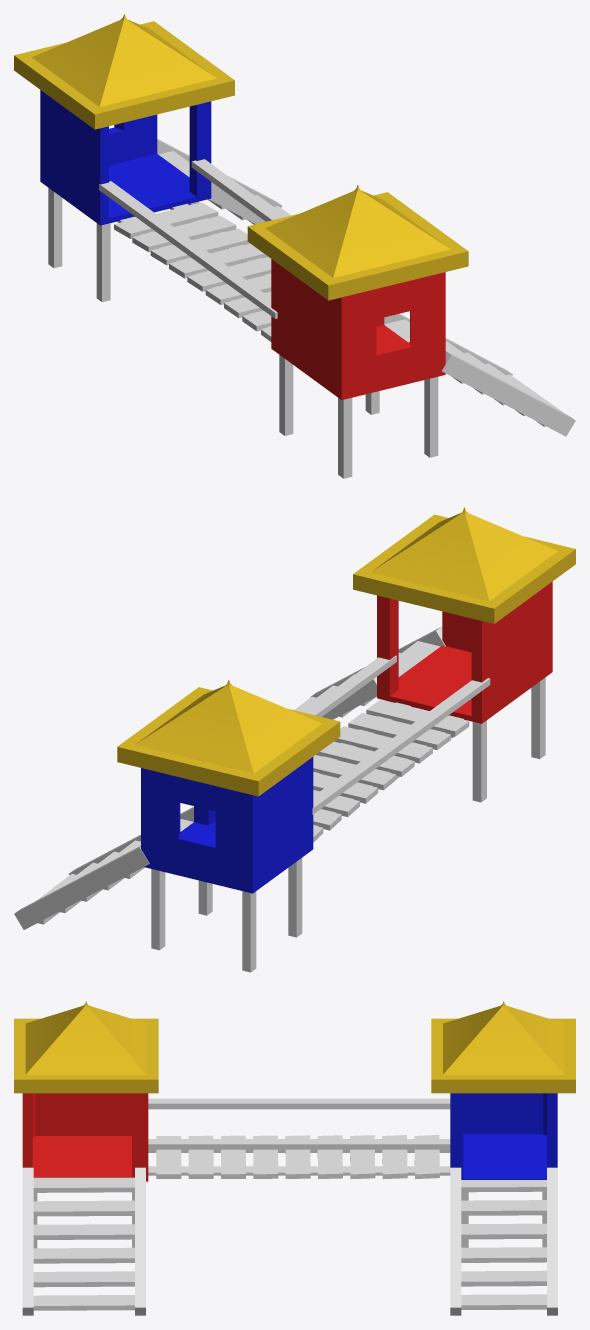
Rendered from harongHarong.fbx.
3 views of the same model, one above another, from view 1: azimuth 30°, elevation 25°; view 2: azimuth 150°, elevation 25°; view 3: azimuth 270°, elevation 25° (orthographic). The views are drawn at different scales.
Visible parts, largest first — view 1: Atop.001, bahay, bahay.001, flat na tulay, Leg, tulay.001, Hagdan, Left hagdan, Right hagdan; view 2: Atop.001, bahay.001, bahay, flat na tulay, Leg, tulay.001, Hagdan, Right hagdan, Left hagdan; view 3: Atop.001, bahay, Left hagdan, bahay.001, tulay.001, Right hagdan, flat na tulay, Hagdan, Leg.
Boxes of the visible parts, x1,y1,x2,y2 form: Atop.001: [14, 14, 468, 300]; bahay: [271, 259, 445, 399]; bahay.001: [40, 90, 211, 225]; flat na tulay: [114, 202, 271, 341]; Leg: [48, 188, 438, 478]; tulay.001: [99, 159, 283, 327]; Hagdan: [157, 139, 575, 436]; Left hagdan: [384, 319, 564, 426]; Right hagdan: [158, 151, 291, 224]; Atop.001: [117, 507, 575, 796]; bahay.001: [141, 757, 313, 893]; bahay: [377, 581, 552, 723]; flat na tulay: [313, 699, 469, 842]; Leg: [151, 677, 545, 972]; tulay.001: [303, 655, 490, 826]; Hagdan: [14, 626, 445, 929]; Right hagdan: [36, 819, 193, 924]; Left hagdan: [294, 641, 440, 717]; Atop.001: [14, 1001, 575, 1093]; bahay: [22, 1093, 148, 1181]; Left hagdan: [33, 1177, 134, 1310]; bahay.001: [450, 1093, 557, 1179]; tulay.001: [148, 1098, 450, 1175]; Right hagdan: [461, 1180, 546, 1309]; flat na tulay: [156, 1135, 439, 1179]; Hagdan: [22, 1167, 557, 1315]; Leg: [33, 1191, 546, 1248].
Size of the model in its own units: 486 by 493 by 1049.
